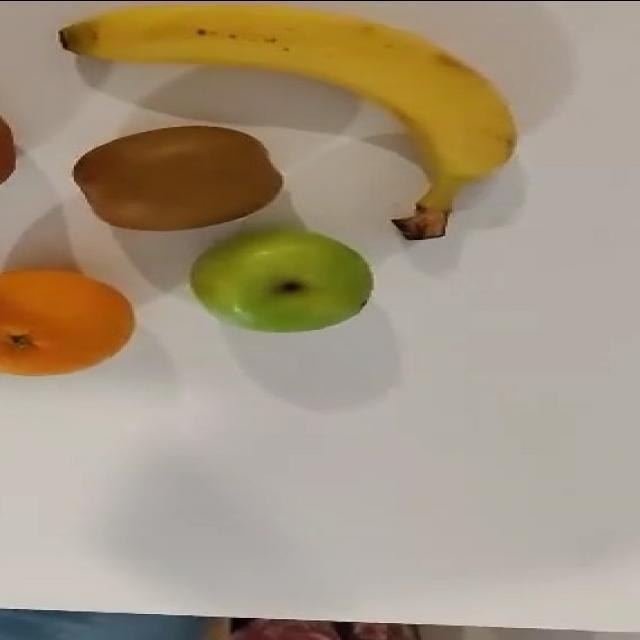Apple: (189, 227, 374, 333)
Banana: (57, 0, 518, 240)
Orange: (0, 265, 135, 376)
